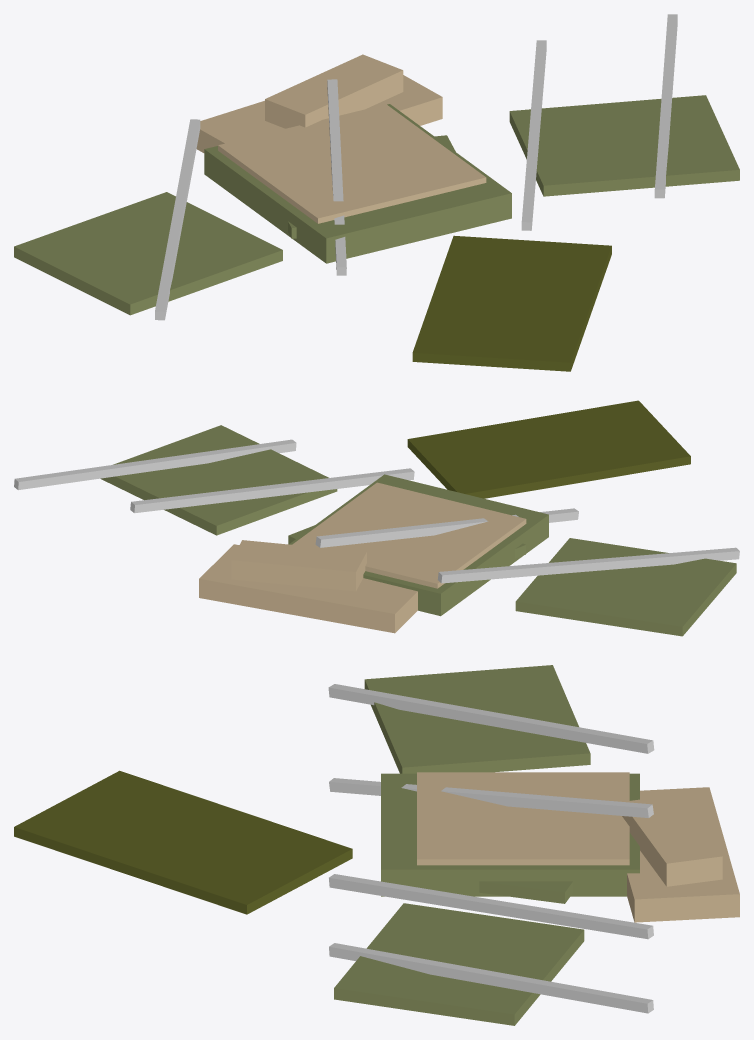
File: SM_HescoCorto1_v4_Red_e3_Brecha_LOD0.fbx
The picture shows the model from 3 angles, top to bottom: view 1: azimuth 30°, elevation 25°; view 2: azimuth 150°, elevation 25°; view 3: azimuth 270°, elevation 25°; orthographic projection. The views are drawn at different scales.
Visible parts, largest first — view 1: SM_hesco_piezas_v59_LOD0; view 2: SM_hesco_piezas_v59_LOD0; view 3: SM_hesco_piezas_v59_LOD0.
Part boxes in pixels (left/top/right/bottom): SM_hesco_piezas_v59_LOD0: left=14, top=14, right=739, bottom=371; SM_hesco_piezas_v59_LOD0: left=14, top=400, right=739, bottom=636; SM_hesco_piezas_v59_LOD0: left=14, top=665, right=739, bottom=1025.
Bounding box in the file's own units: 4.09 × 0.3263 × 3.42.
